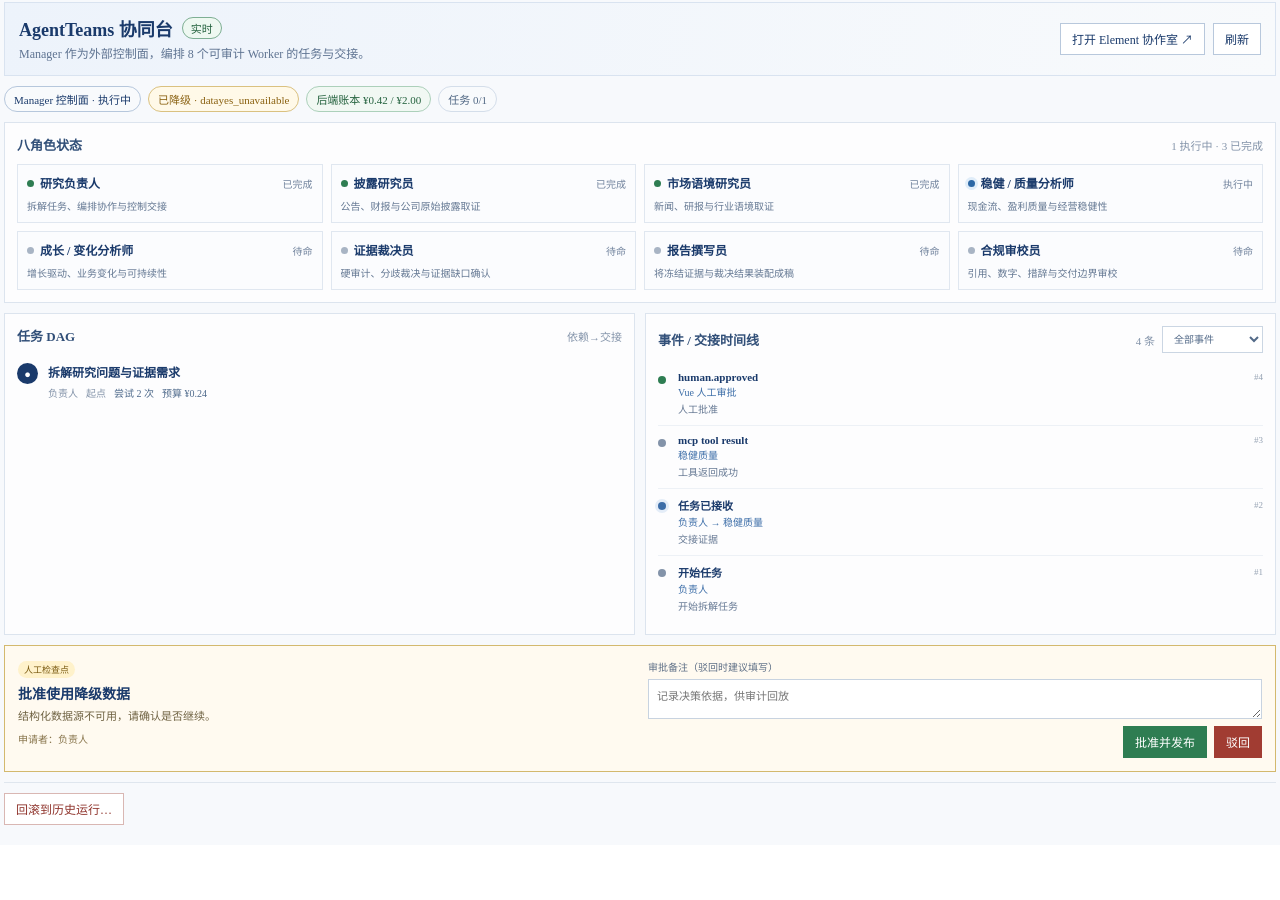
Test: AgentTeamPanel › filters task, handoff, Skill/MCP and approval events and shows task runtime limits
Expected: the number of list items with class "event-row" is 4, [658,363,1263,425]; [658,425,1263,488]; [658,488,1263,555]; [658,555,1263,622]
Select "任务" in the dropdown with test id "event-filter" at (1212, 340), box [1162,326,1263,353]
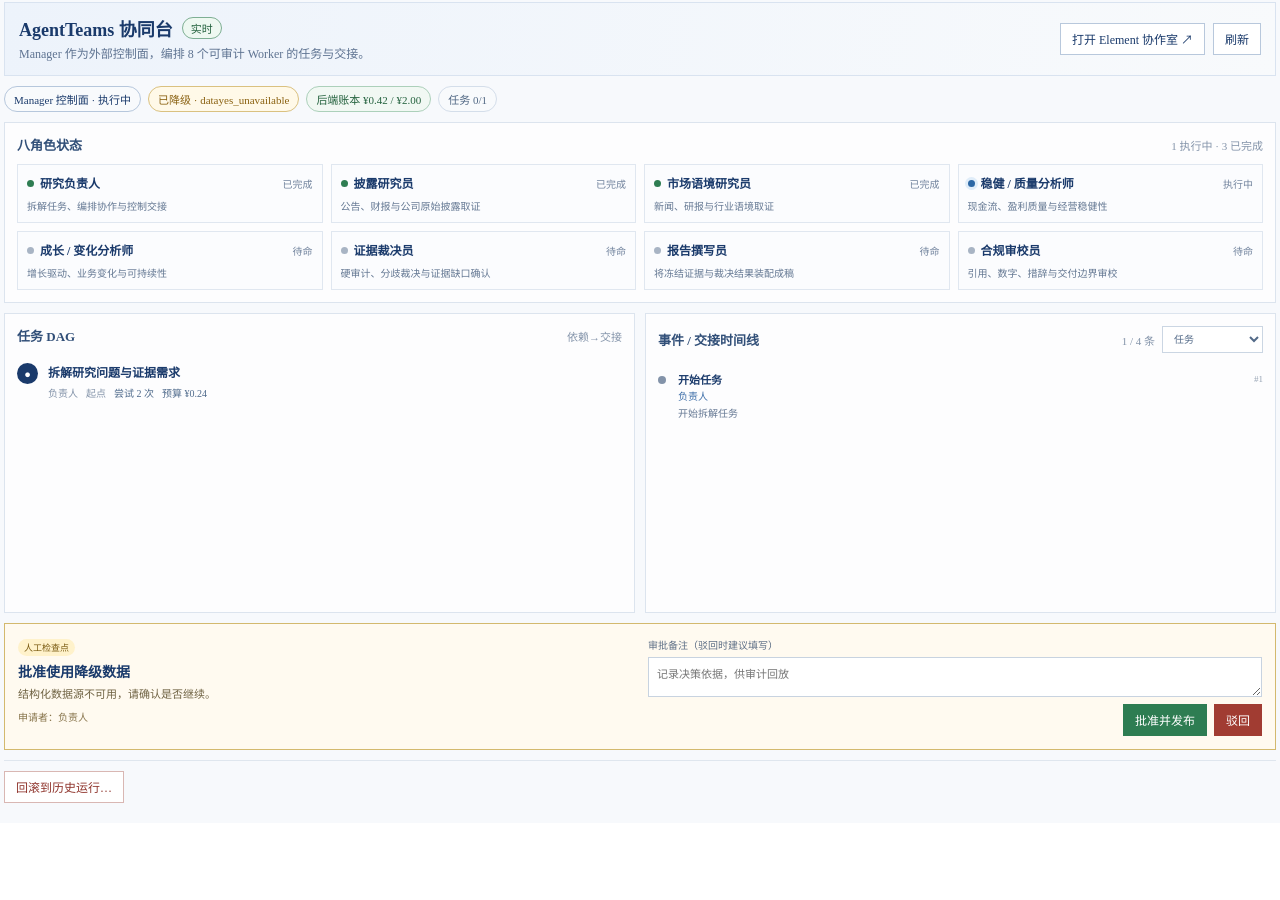
Expected: the text "开始拆解任务" is shown, [678,408,738,419]
Expected: the number of list items with class "event-row" is 1, [658,363,1263,429]
Select "交接" in the dropdown with test id "event-filter" at (1212, 340), box [1162,326,1263,353]
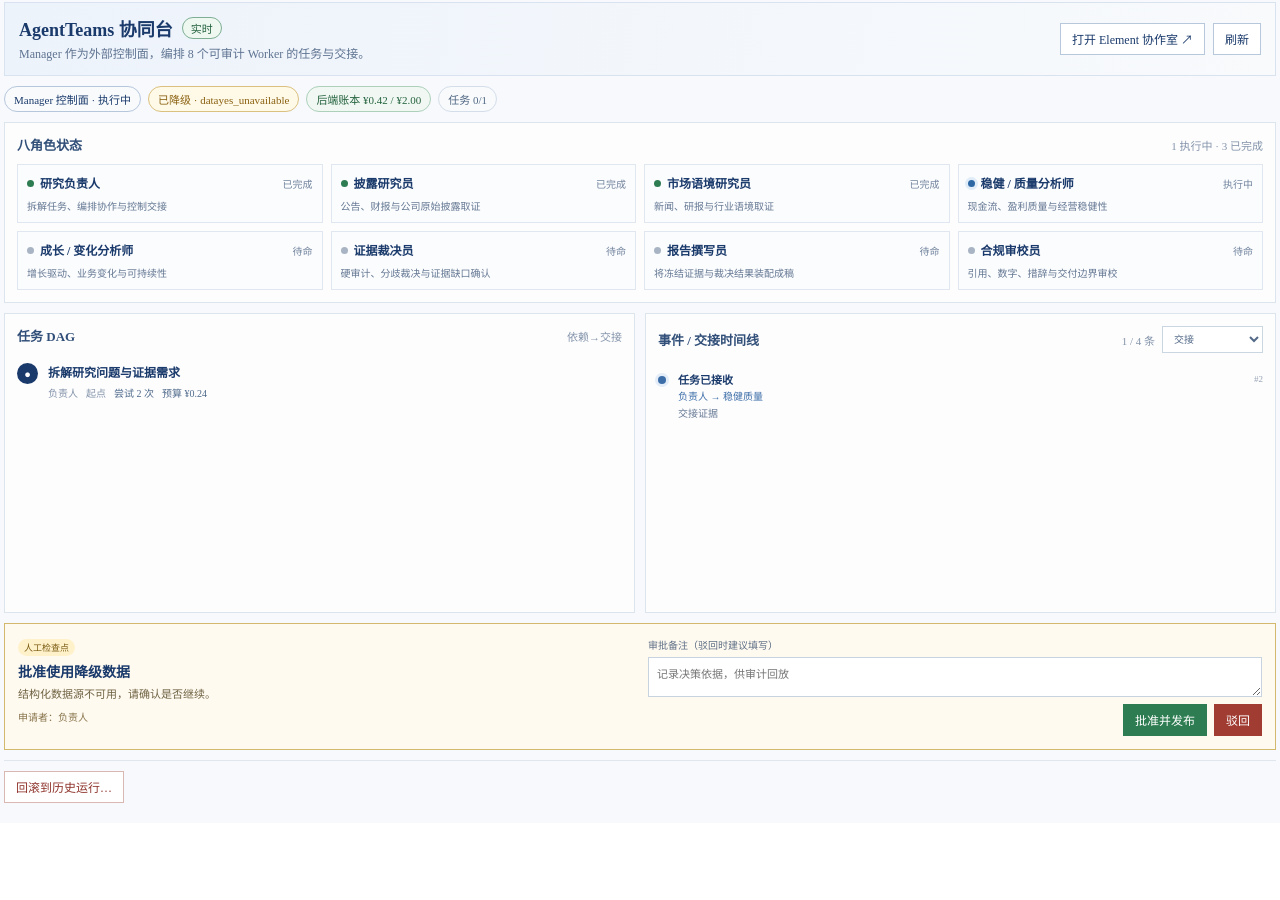
Expected: the text "交接证据" is shown, [678,408,718,419]
Select "Skill / MCP" in the dropdown with test id "event-filter" at (1212, 340), box [1162,326,1263,353]
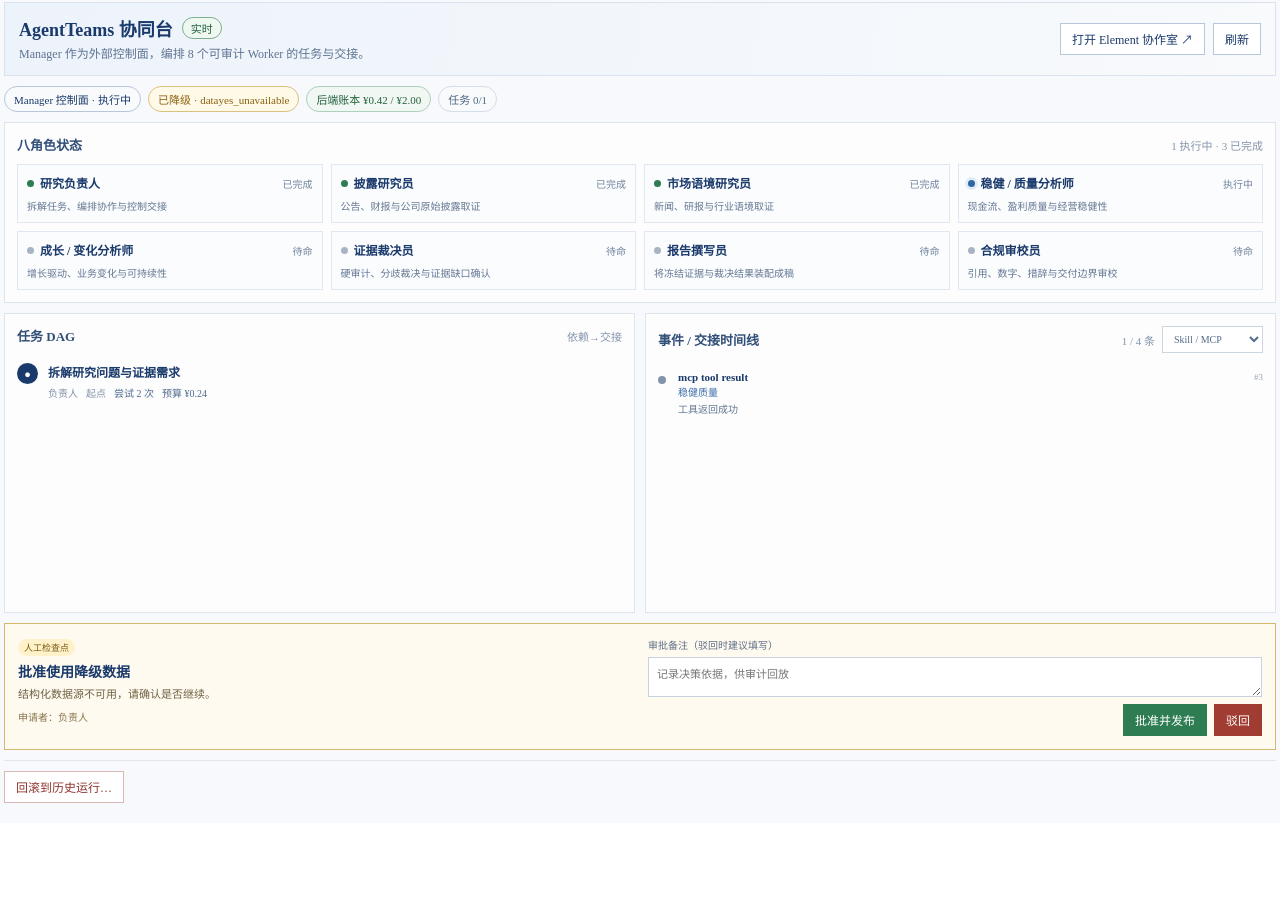
Expected: the text "工具返回成功" is shown, [678,404,738,415]
Select "审批" in the dropdown with test id "event-filter" at (1212, 340), box [1162,326,1263,353]
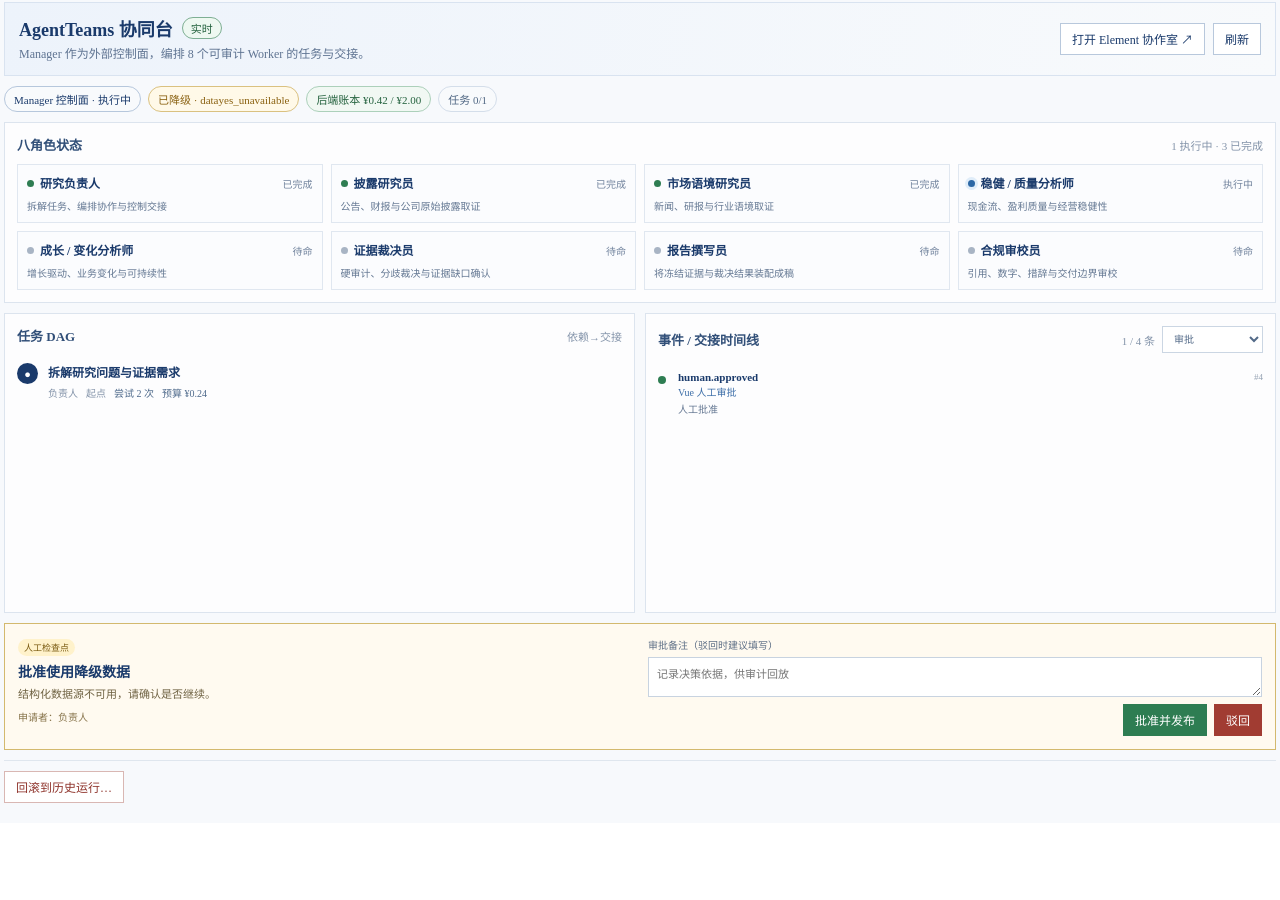
Expected: the text "人工批准" is shown, [678,404,718,415]
Select "全部事件" in the dropdown with test id "event-filter" at (1212, 340), box [1162,326,1263,353]
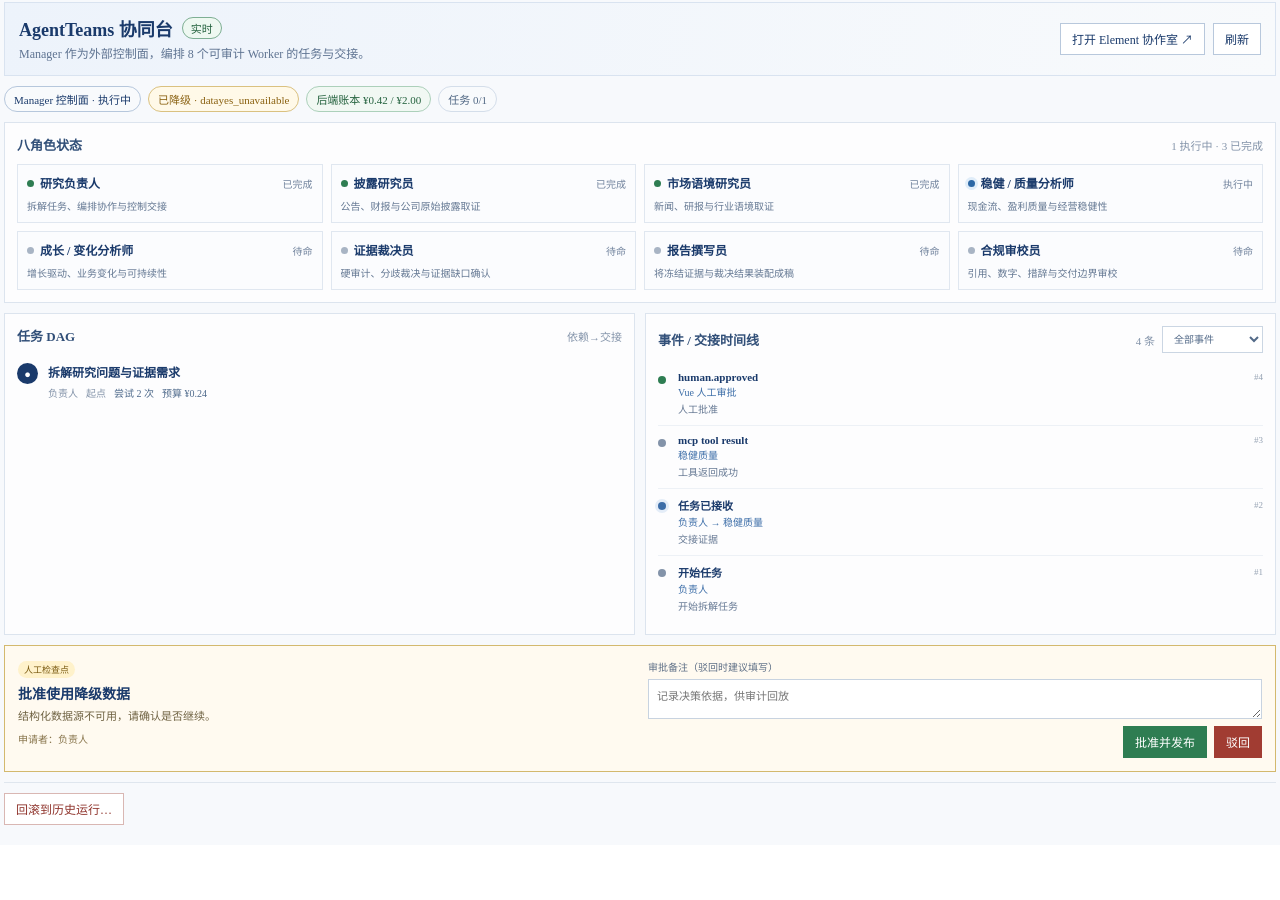
Expected: the number of list items with class "event-row" is 4, [658,363,1263,425]; [658,425,1263,488]; [658,488,1263,555]; [658,555,1263,622]
